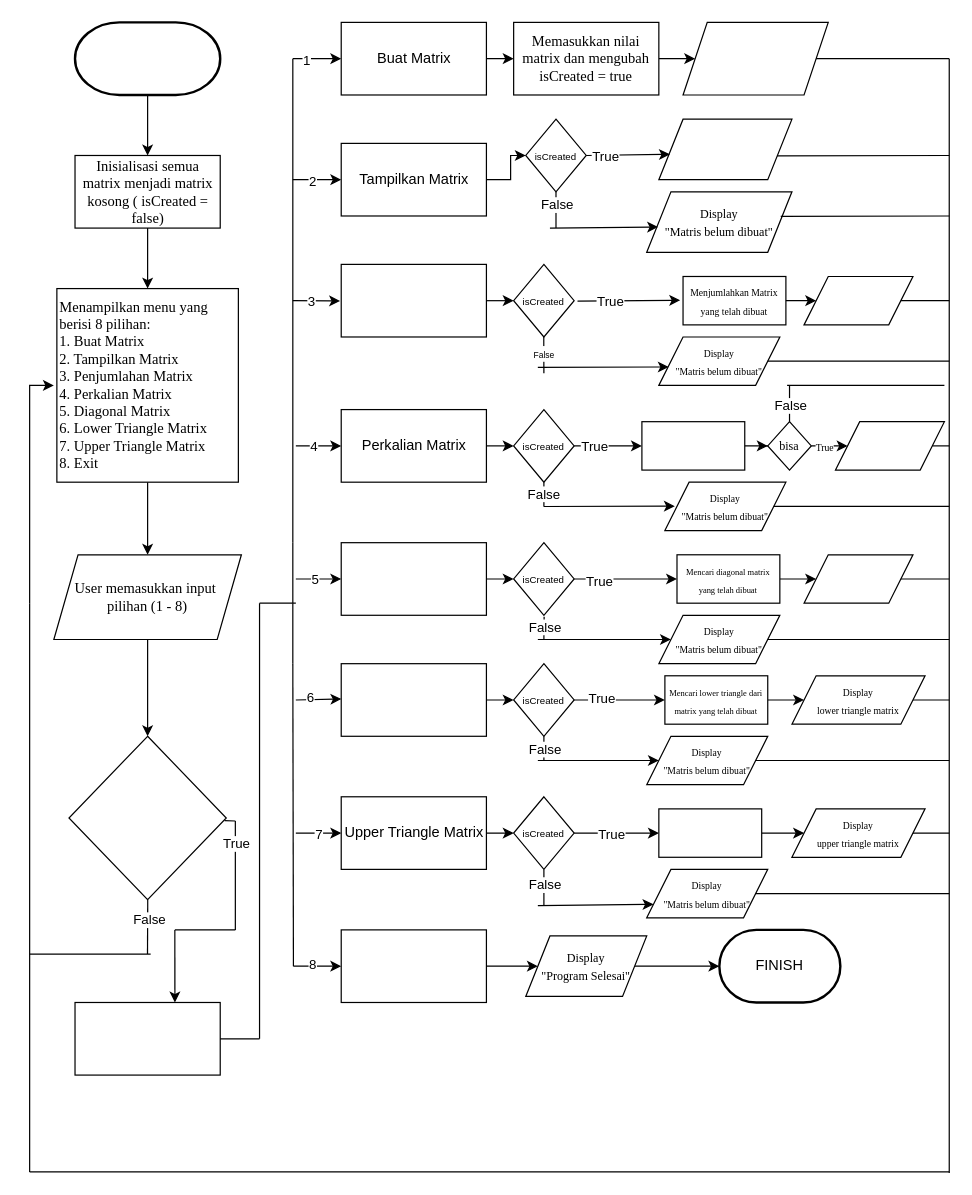
The diagram is 972 pixels wide and 1195 high, and some of its shapes have lost their labels. Each missing label, with the centre of its shape:
Apakah inputnya berupa bilangan dari 1 sampai 8: the point at 147,817
Diagonal Matrix: the point at 413,578
Display "Matris telah tersimpan": the point at 755,58
Display hasil penjumlahan: the point at 858,300
Display hasil perkalian matrix: the point at 889,445
Display matrix diagonal: the point at 858,578
Display Matrix yang dibuat: the point at 725,149
Exit: the point at 413,965
Lower Triangle Matrix: the point at 413,699
Masuk ke menu pilihan: the point at 147,1038
Mencari upper triangle dari matrix yang telah dibuat: the point at 710,832
Mengalikan Matrix yang telah dibuat: the point at 693,445
Penjumlahan Matrix: the point at 413,300
START: the point at 147,58
